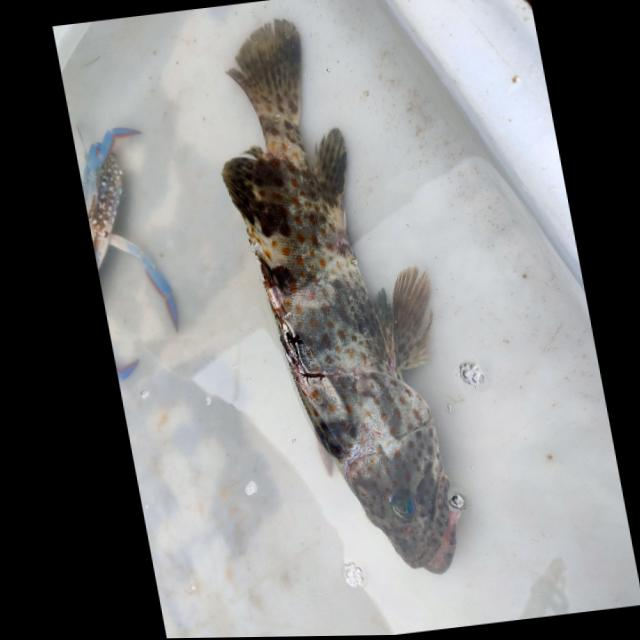Groupers: (185, 6, 488, 600)
